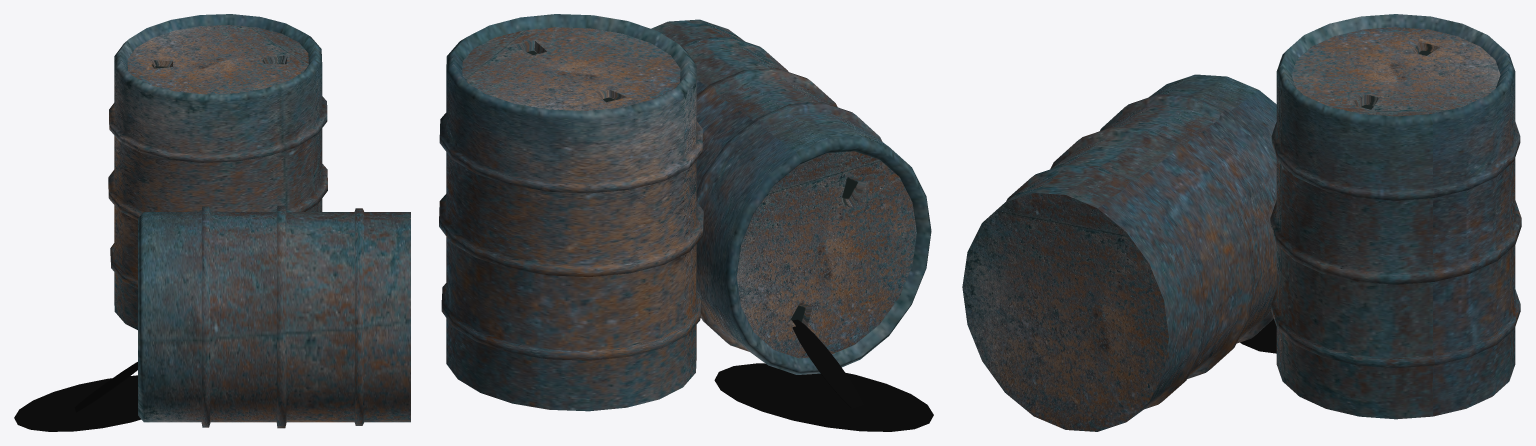
Rendered from two barrel one up one down.fbx.
3 renders of one model, left to right at view 1: azimuth 30°, elevation 25°; view 2: azimuth 150°, elevation 25°; view 3: azimuth 270°, elevation 25°, orthographic. The views are drawn at different scales.
Parts seen in each view (by area): view 1: pCylinder2, pCylinder1, pasted__pCylinder3, pCylinder3; view 2: pCylinder1, pCylinder2, pasted__pCylinder3, pCylinder3; view 3: pCylinder1, pCylinder2, pasted__pCylinder3.
Boxes of the visible parts, x1,y1,x2,y2 form: pCylinder2: (138,205,410,428); pCylinder1: (108,14,327,329); pasted__pCylinder3: (14,375,141,431); pCylinder3: (74,362,137,412); pCylinder1: (439,14,703,411); pCylinder2: (651,19,931,374); pasted__pCylinder3: (714,363,933,431); pCylinder3: (792,319,863,408); pCylinder1: (1270,14,1521,419); pCylinder2: (962,74,1276,431); pasted__pCylinder3: (1240,319,1276,353).
Size of the model in its own units: 12.45 by 9.56 by 14.32.
